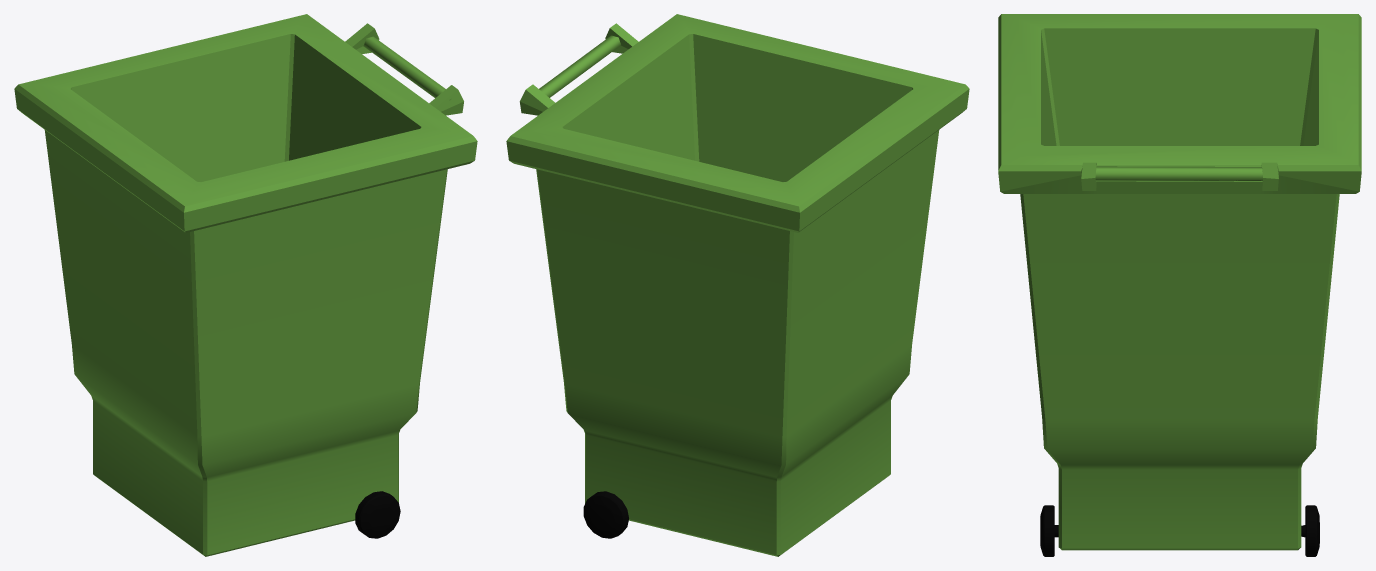
The model's file is Rubbish Bin.fbx.
3 renders of one model, left to right at view 1: azimuth 30°, elevation 25°; view 2: azimuth 150°, elevation 25°; view 3: azimuth 270°, elevation 25°, orthographic. The views are drawn at different scales.
Parts seen in each view (by area): view 1: Box001, Cylinder001; view 2: Box001, Cylinder001; view 3: Box001, Cylinder001.
Boxes of the visible parts, bbox=[...] form: Box001: bbox=[14, 14, 477, 556]; Cylinder001: bbox=[355, 491, 400, 538]; Box001: bbox=[506, 14, 969, 556]; Cylinder001: bbox=[583, 491, 628, 538]; Box001: bbox=[998, 14, 1361, 550]; Cylinder001: bbox=[1040, 505, 1319, 556].
Bounding box in the file's own units: 82.73 × 102 × 76.16.
